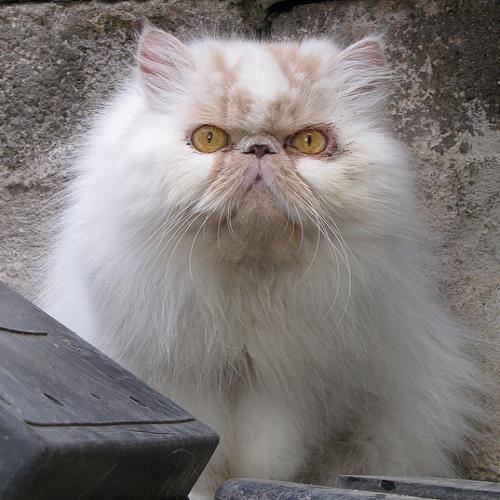persian: (108, 11, 404, 291)
